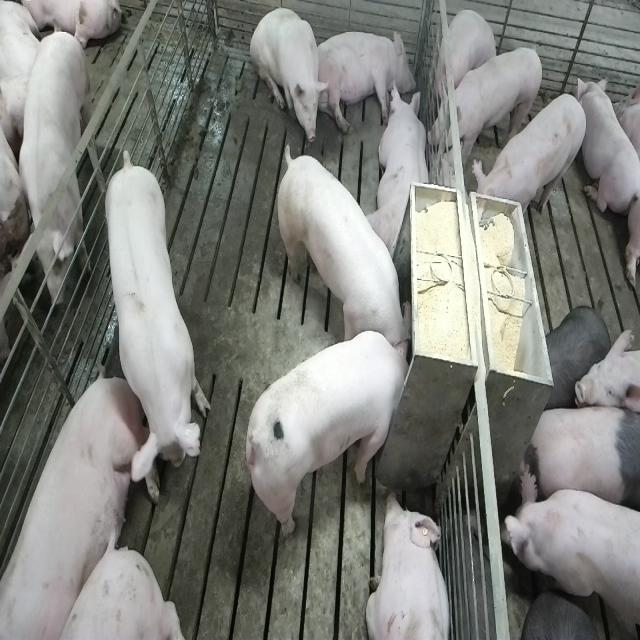Feeding: (249, 330, 420, 540), (275, 140, 410, 358)
Lateral_lying: (314, 26, 417, 137)
Sitting: (250, 6, 330, 148)
Standing: (101, 148, 208, 495), (0, 237, 72, 640), (10, 18, 102, 310), (498, 475, 638, 640), (473, 91, 588, 235), (520, 400, 637, 512), (432, 46, 543, 162), (542, 302, 610, 409), (522, 591, 610, 640)
Sternal_lying: (367, 490, 454, 640), (370, 82, 432, 262), (579, 73, 638, 222)
